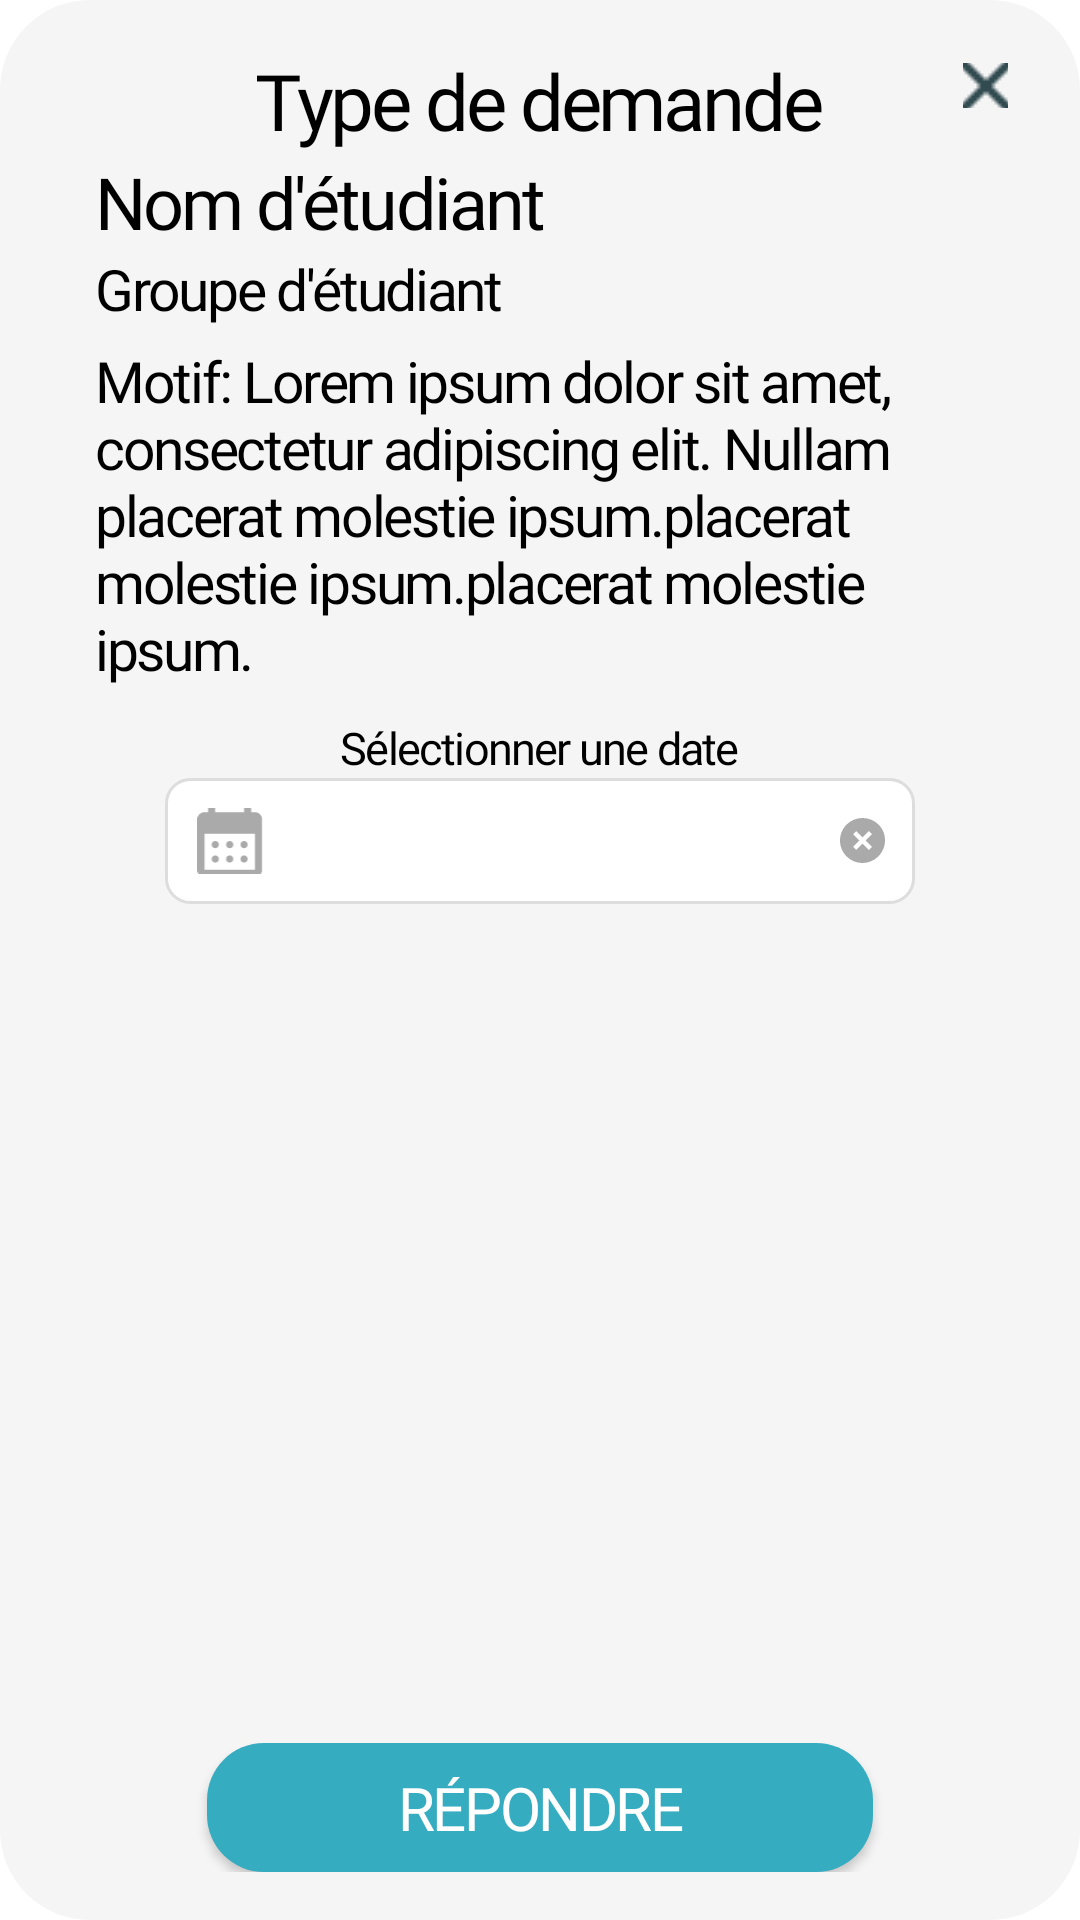

Icon click points for this 1080×1920 phone screenshot, format (x,y):
calendar date: (229,841)
clear: (862,840)
exit: (985,85)
